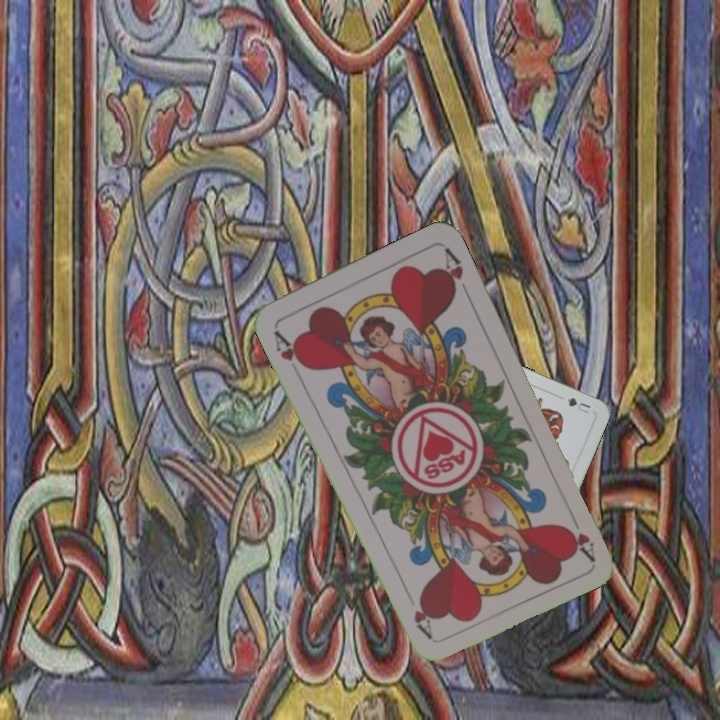GU: (563, 393, 593, 416)
HA: (560, 506, 598, 563), (269, 326, 310, 372)
